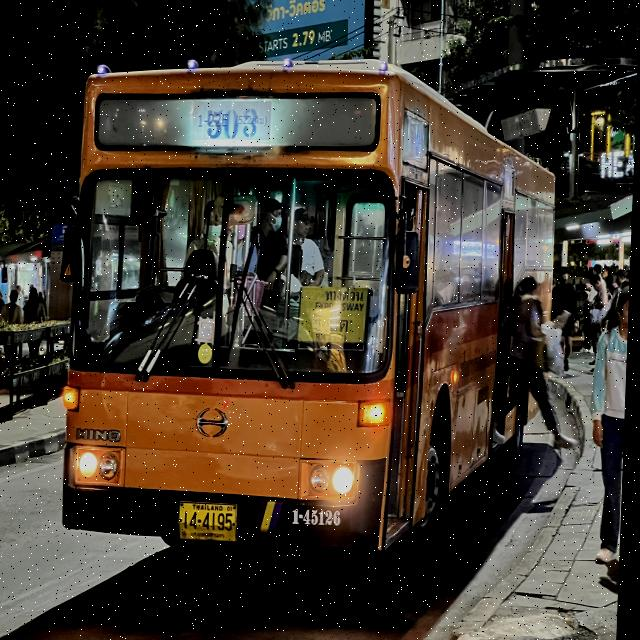BMTA-bus: (52, 49, 572, 570)
Bus-Line-Number: (188, 98, 276, 143)
Destination-Sign-Normal: (300, 282, 371, 348)
